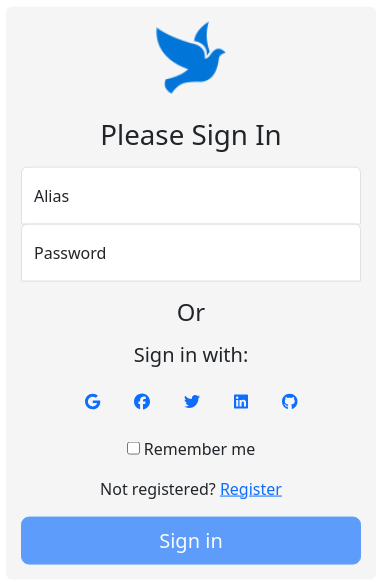
Test: LoginComponent › disables the sign in button if either the alias or password field is cleared
Type "bingus" into the field labelled "Alias".
click(191, 196); type("bingus")  # box [21,167,361,225]
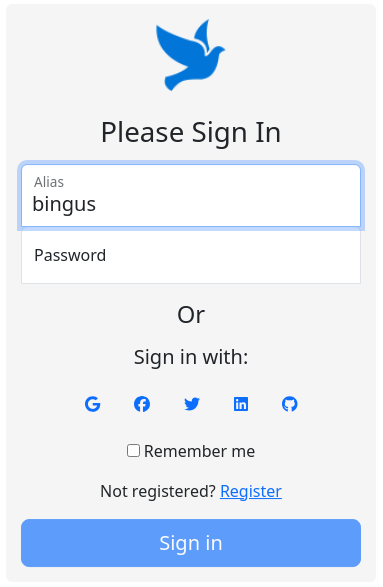
Type "bongus" into the password field labelled "Password".
click(191, 255); type("bongus")  # box [21,226,361,284]
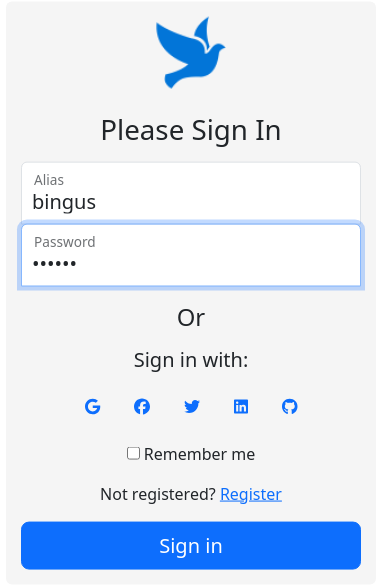
Expected: the button "Sign in" is enabled, [21,521,361,569]
Clear the field labelled "Alias" at (191, 193), box [21,162,361,225]
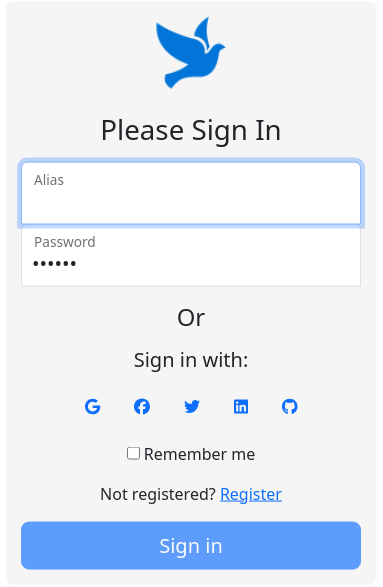
Expected: the button "Sign in" is disabled, [21,521,361,569]
Type "a" into the field labelled "Alias".
click(191, 193); type("a")  # box [21,162,361,225]
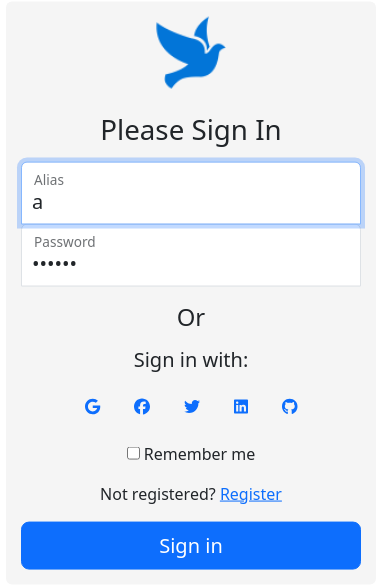
Expected: the button "Sign in" is enabled, [21,521,361,569]
Clear the password field labelled "Password" at (191, 255), box [21,224,361,287]
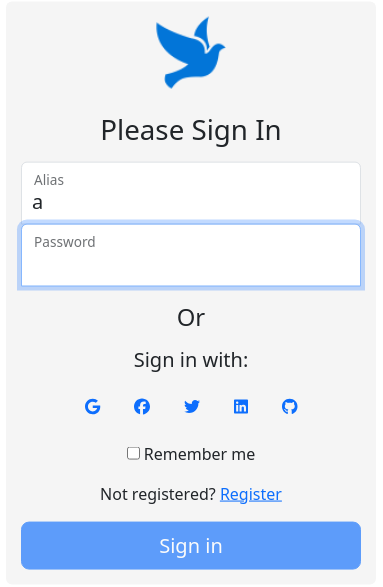
Expected: the button "Sign in" is disabled, [21,521,361,569]
